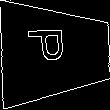P_E: (33, 33, 77, 72)
